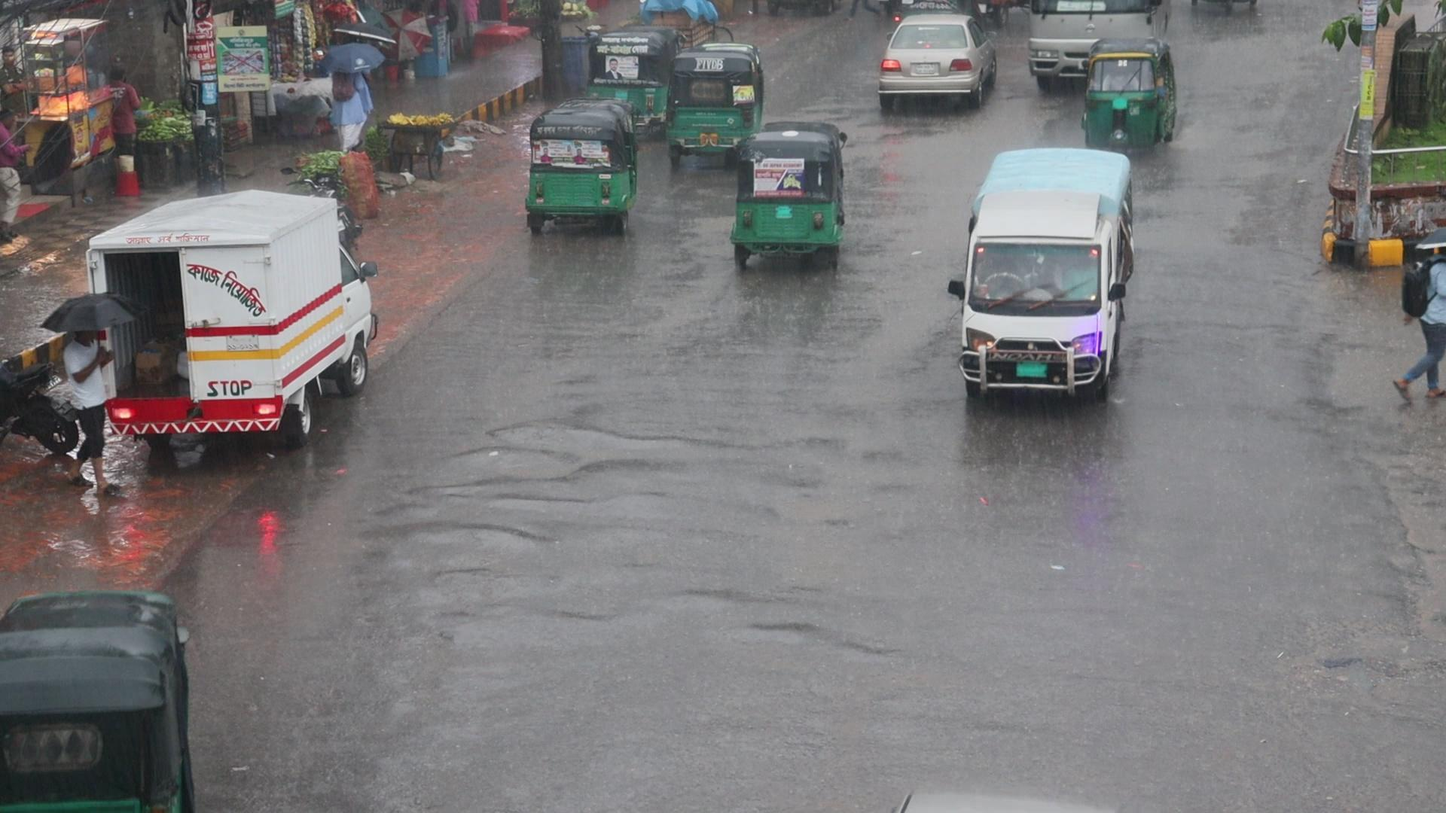Car: (956, 146, 1136, 405), (870, 10, 999, 114)
